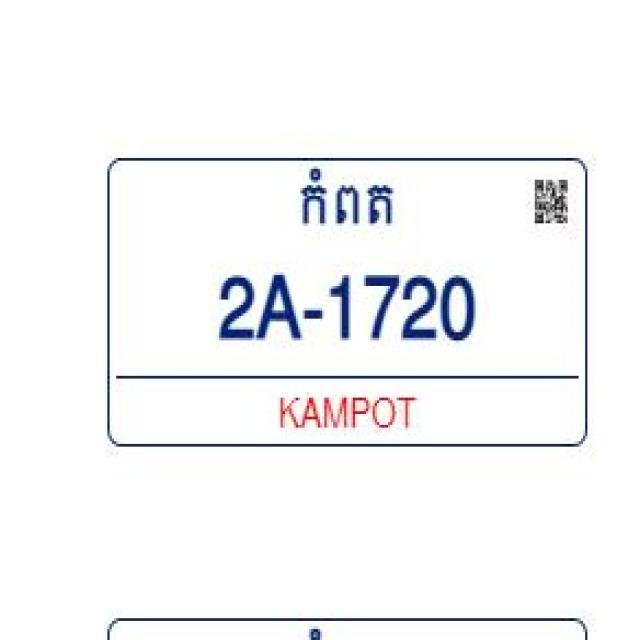Kampot: (291, 166, 399, 232)
